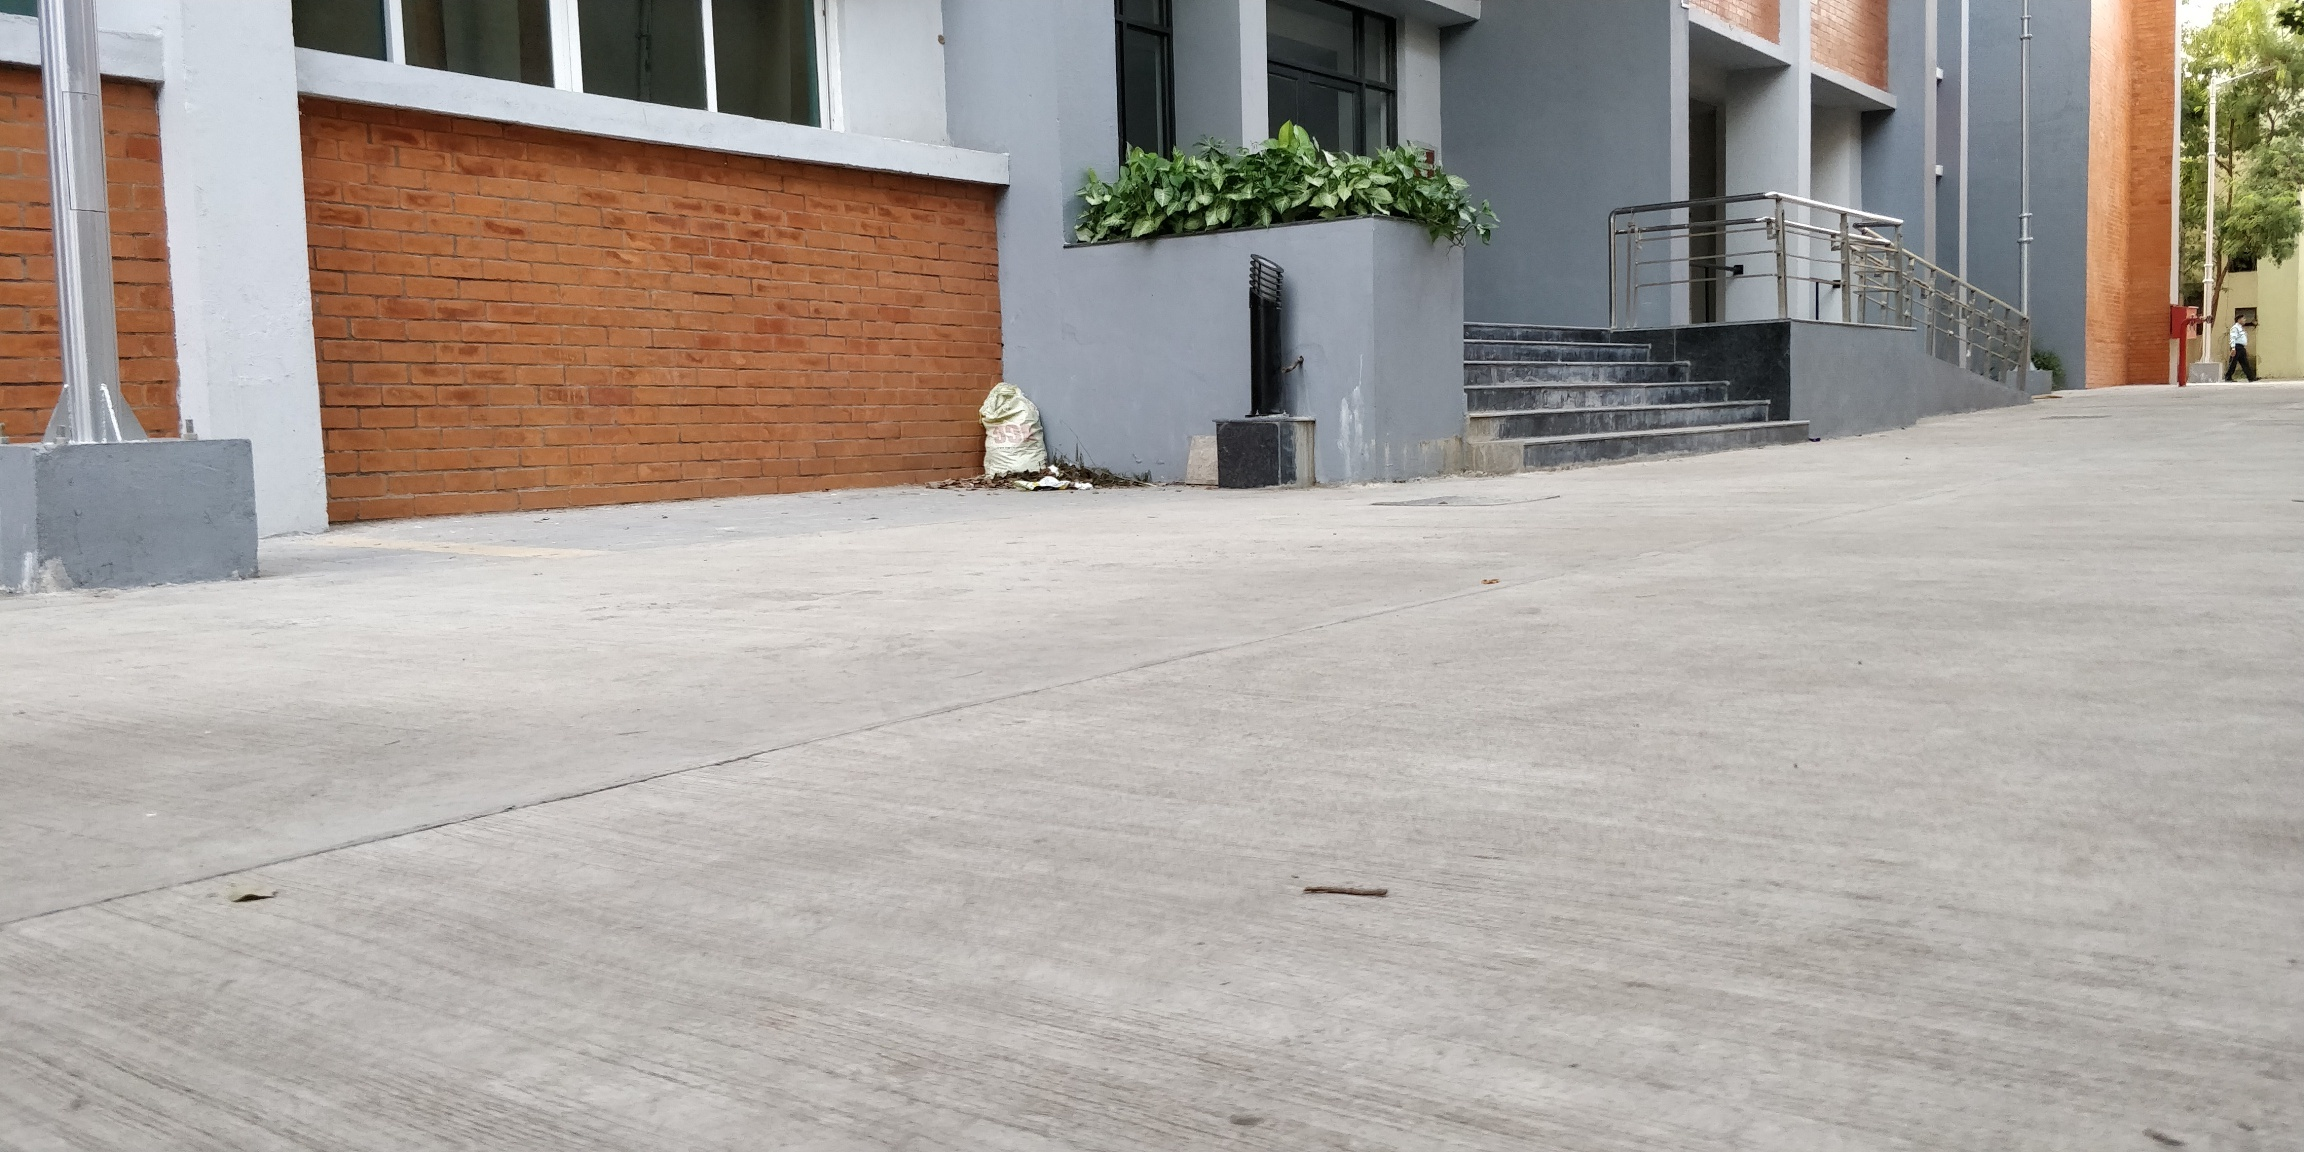stairs_up: (1469, 317, 1835, 453)
